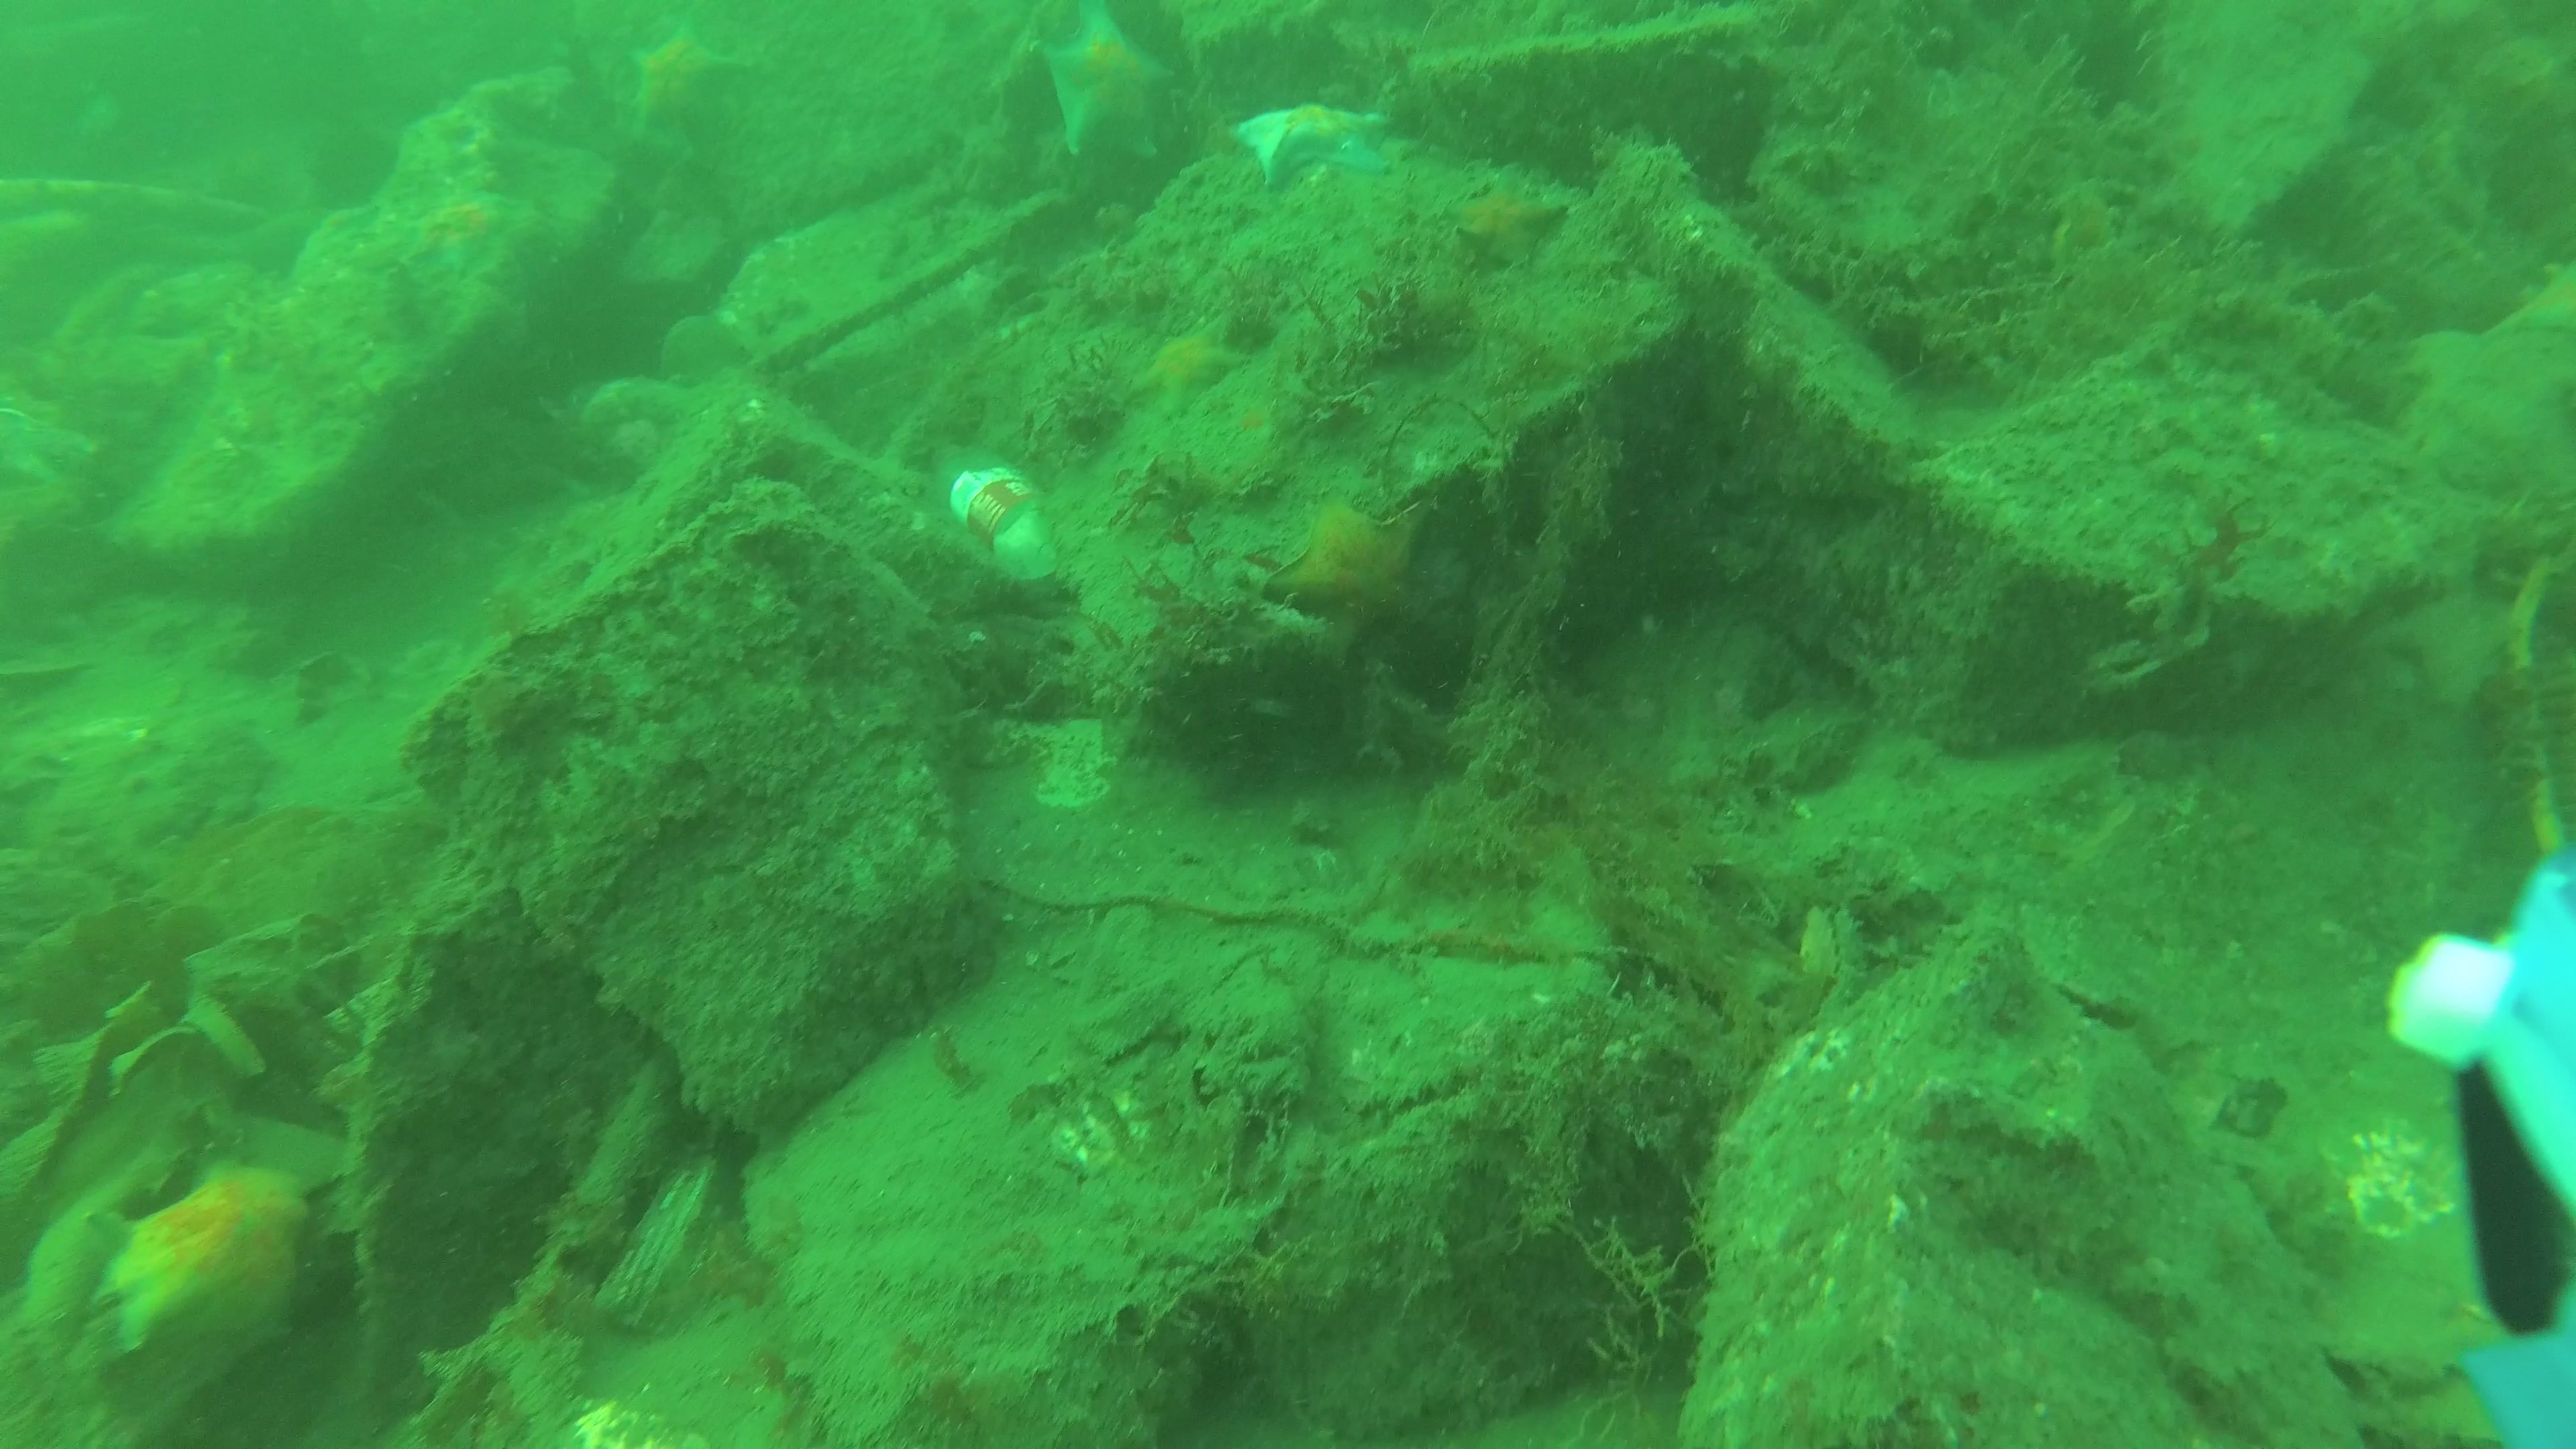starfish: (94, 1166, 308, 1359), (1039, 4, 1175, 161), (1260, 497, 1421, 619), (1449, 166, 1564, 267), (1231, 108, 1387, 180), (1139, 326, 1242, 419), (633, 32, 738, 119)
